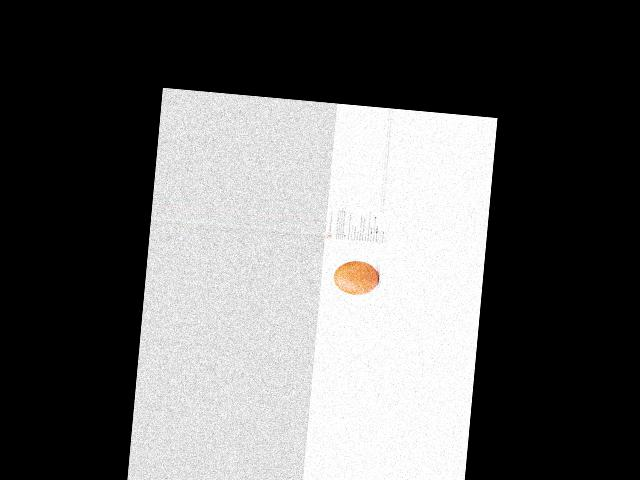egg: (332, 259, 379, 296)
